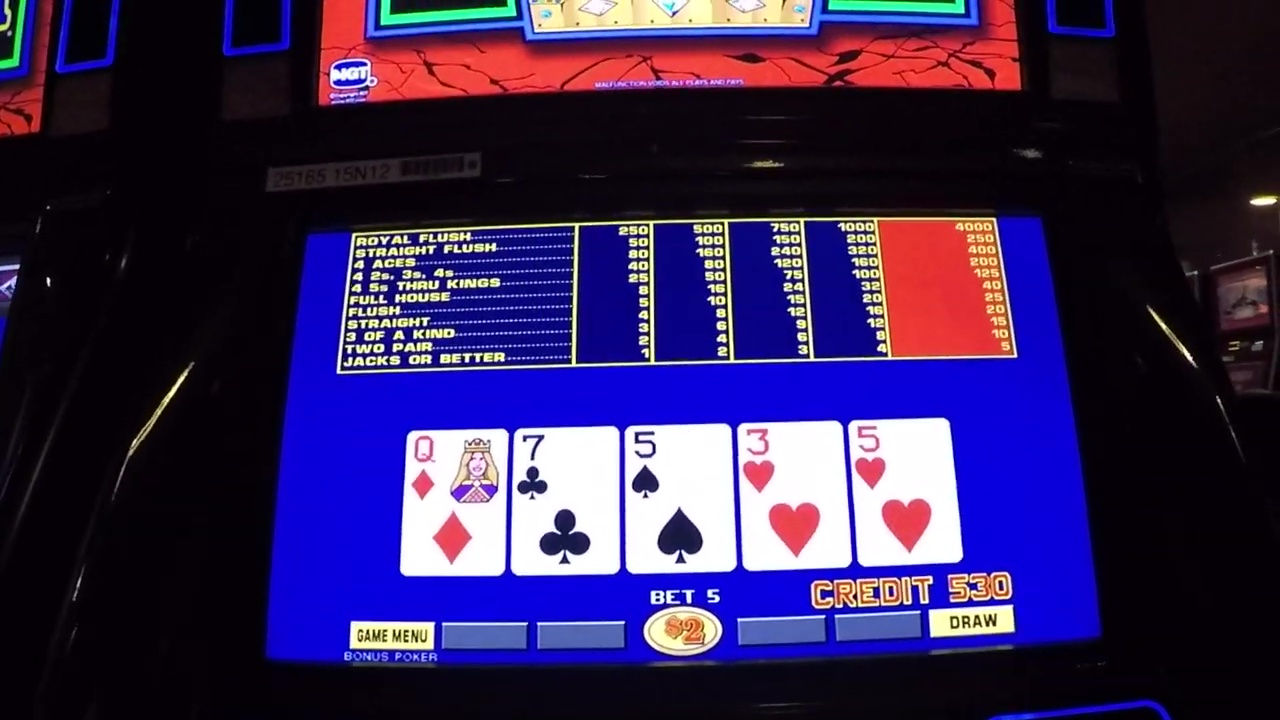C7: (517, 431, 615, 504)
DQ: (409, 435, 503, 504)
H3: (740, 422, 846, 502)
H5: (856, 423, 952, 501)
S5: (626, 428, 731, 504)
